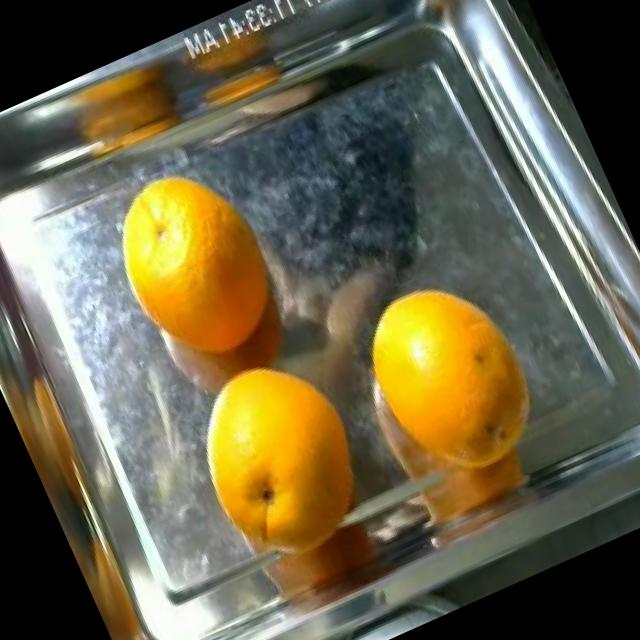Fruit: (79, 130, 312, 384), (336, 246, 552, 474)
